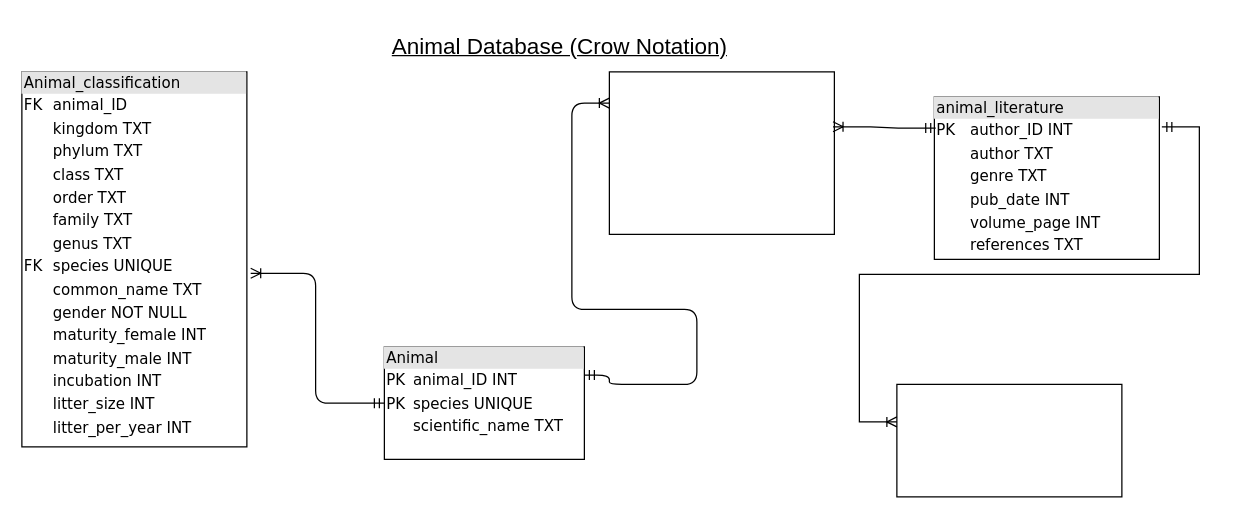
Image size: 1233x519. Some labels were removed from this diagram. The box of each missing label's shape, as (x1, y1, x2, y2) in pixels:
animal_LIT_URL FK author_ID INT displayName TXT URL TINYTEXT: (896, 383, 1122, 497)
animal_to_lit FK animal_ID INT FK author_ID INT: (608, 71, 834, 234)
